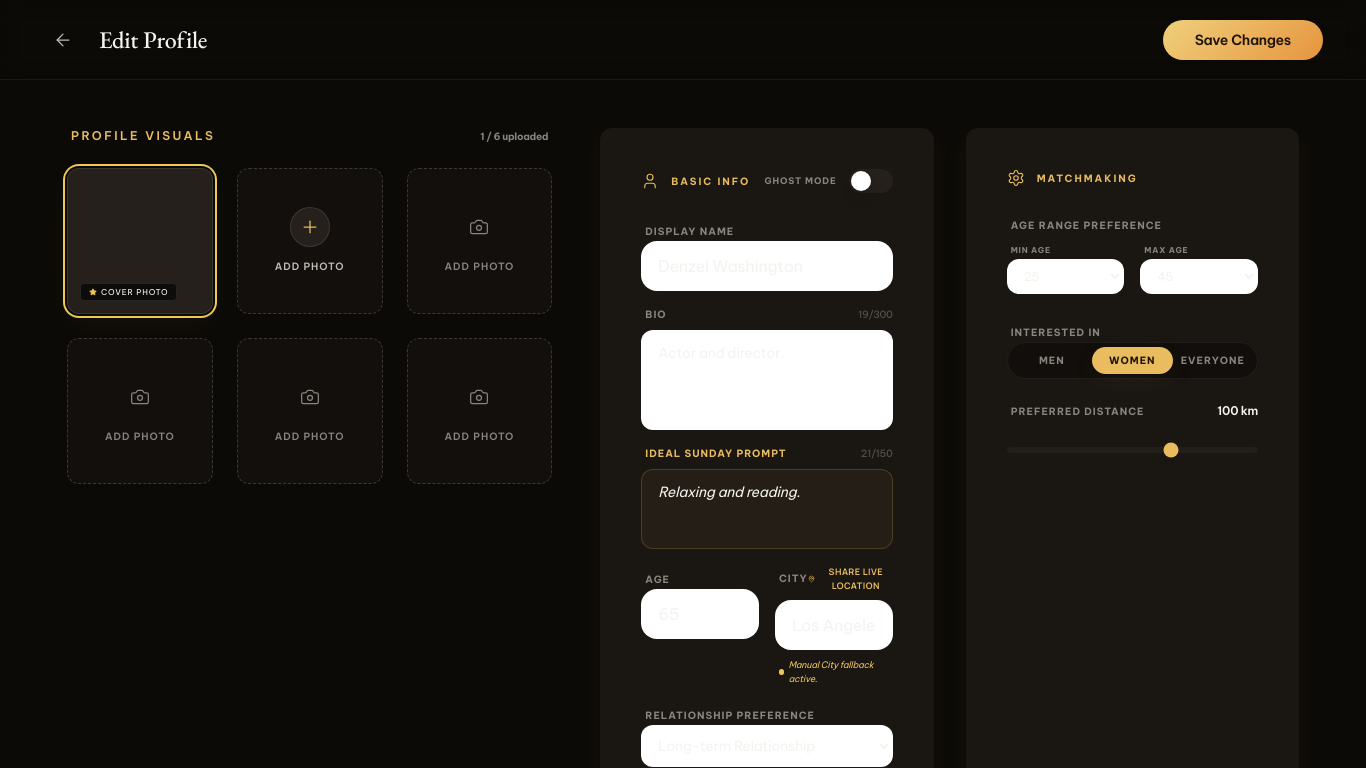
EditProfile Page › blocks saving with an empty display name and shows an error instead of silently failing
The image size is (1366, 768).
Clear the field showing "Denzel Washington" below "Display Name". click: (767, 266)
box: 641,241 -> 893,291
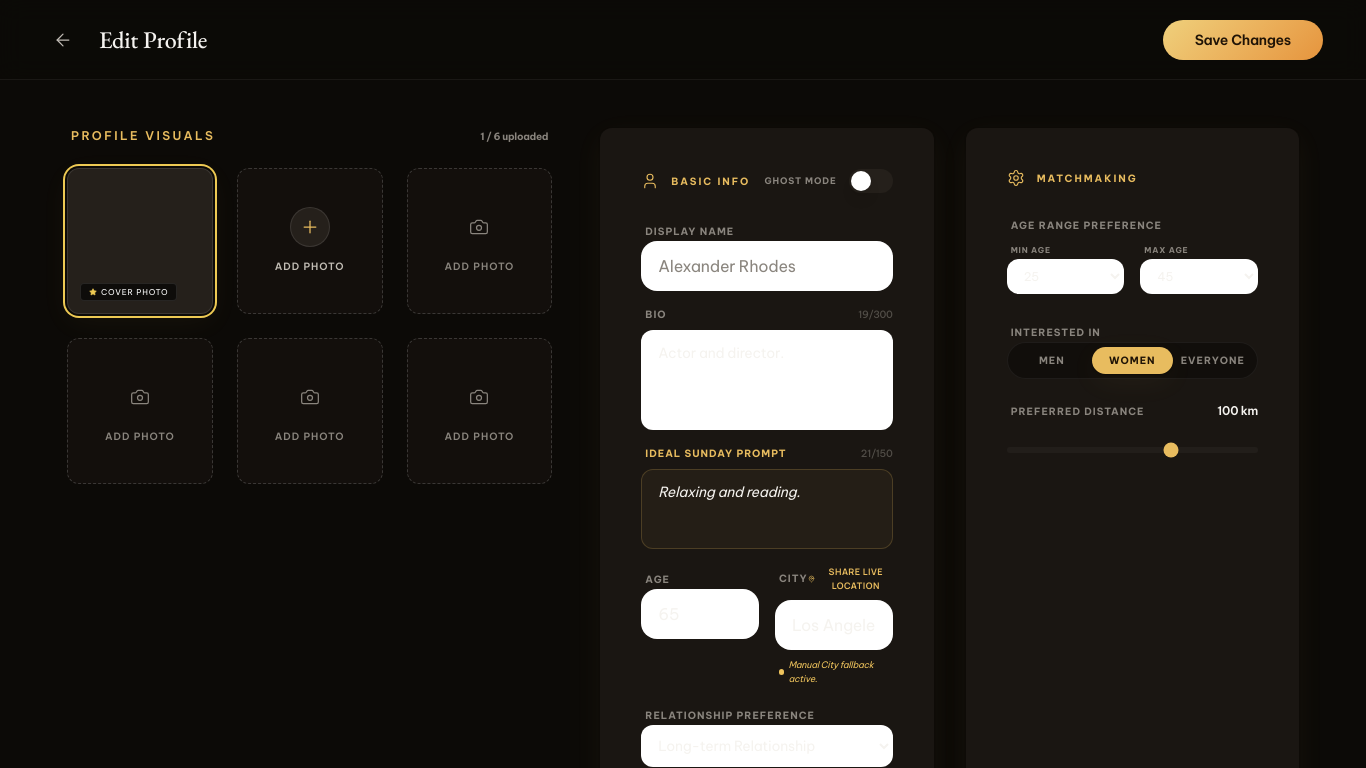
Click the button "Save Changes". click: (1243, 40)
box: 1163,20 -> 1323,60
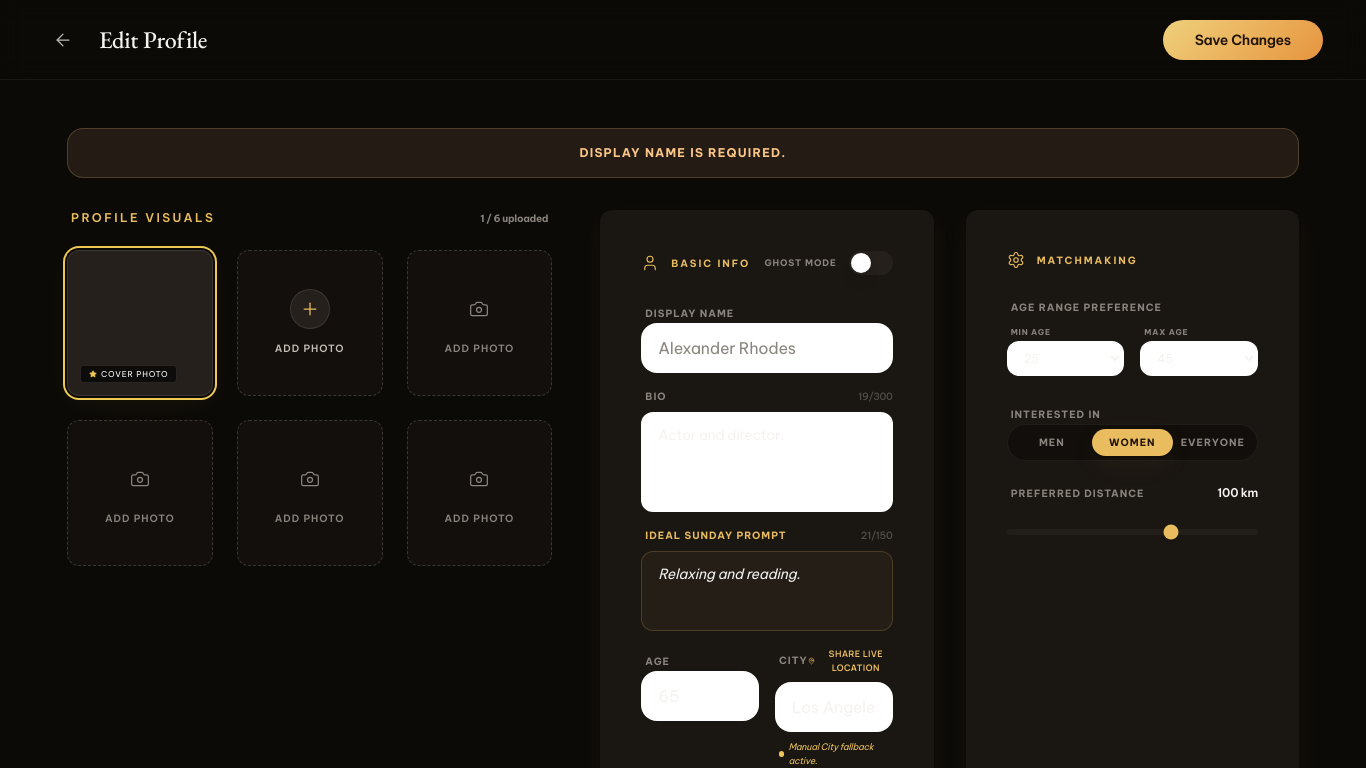
expect the text "Display name is required." is shown: met, box 67,128 -> 1299,178
